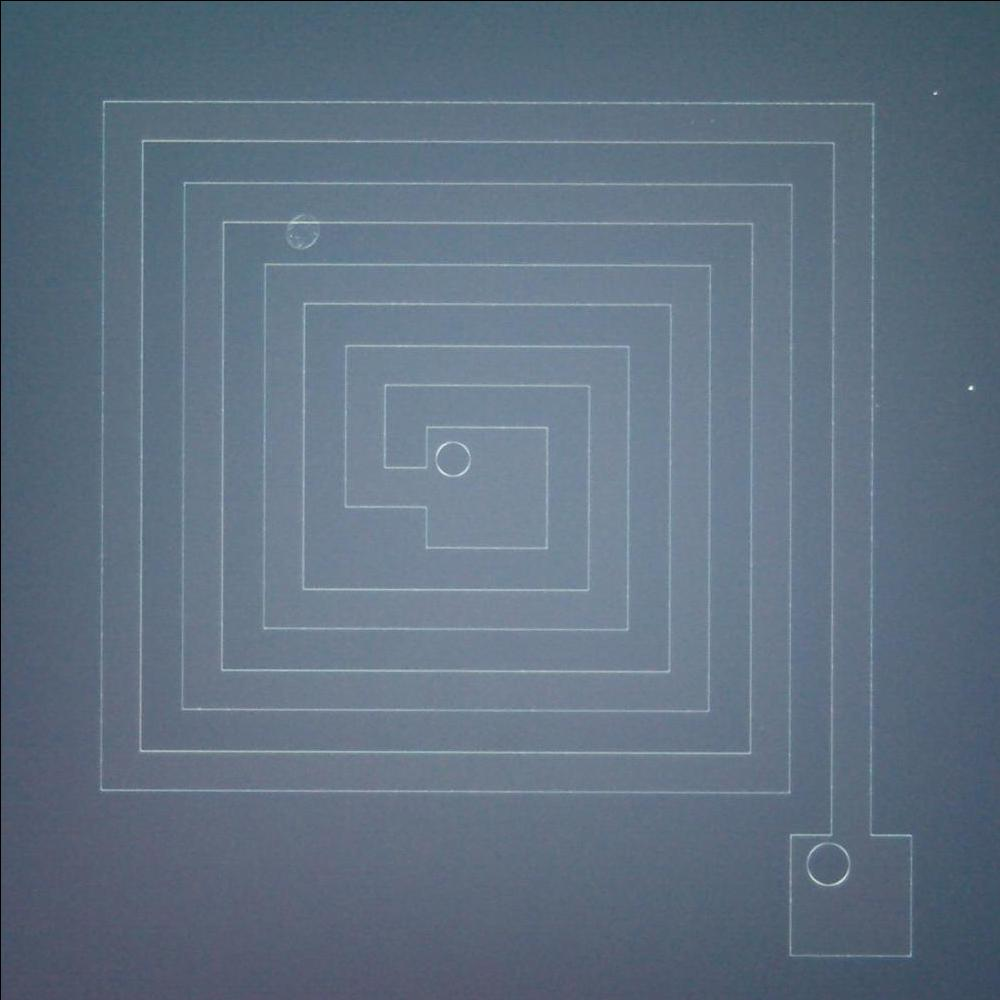circle: (801, 839, 853, 890), (428, 438, 472, 486), (279, 210, 318, 252)
dot: (920, 76, 951, 107), (957, 374, 985, 402)
